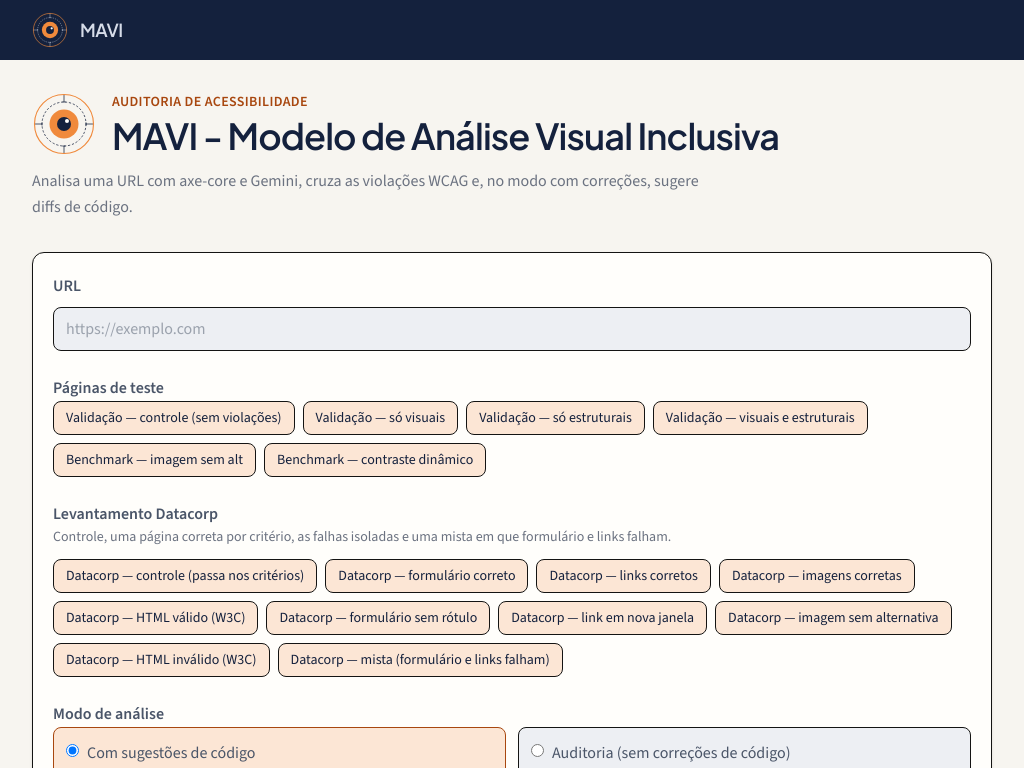
Scenario: App — submissão de URL › mostra mensagem amigável quando a análise falha por timeout
Type "https://example.com" into the field labelled "URL". click: (512, 329)
box: [53,307,971,351]
(page scrolled)
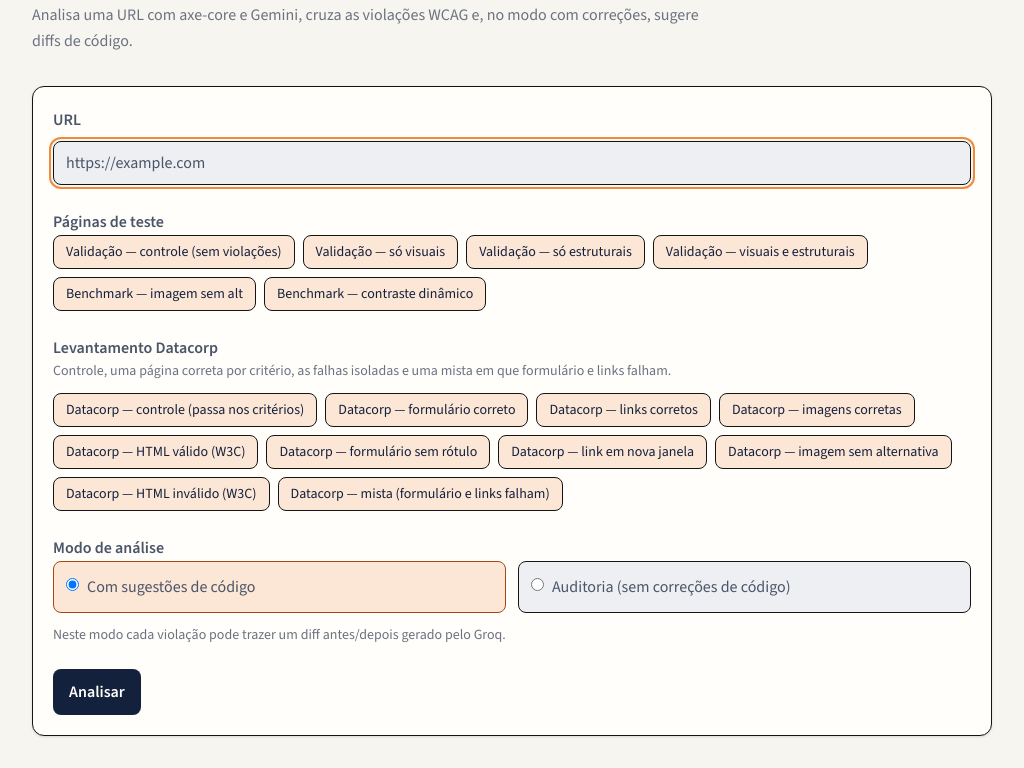
Click the button "Analisar". click: (97, 692)
box: [53,669,141,715]
(page scrolled)
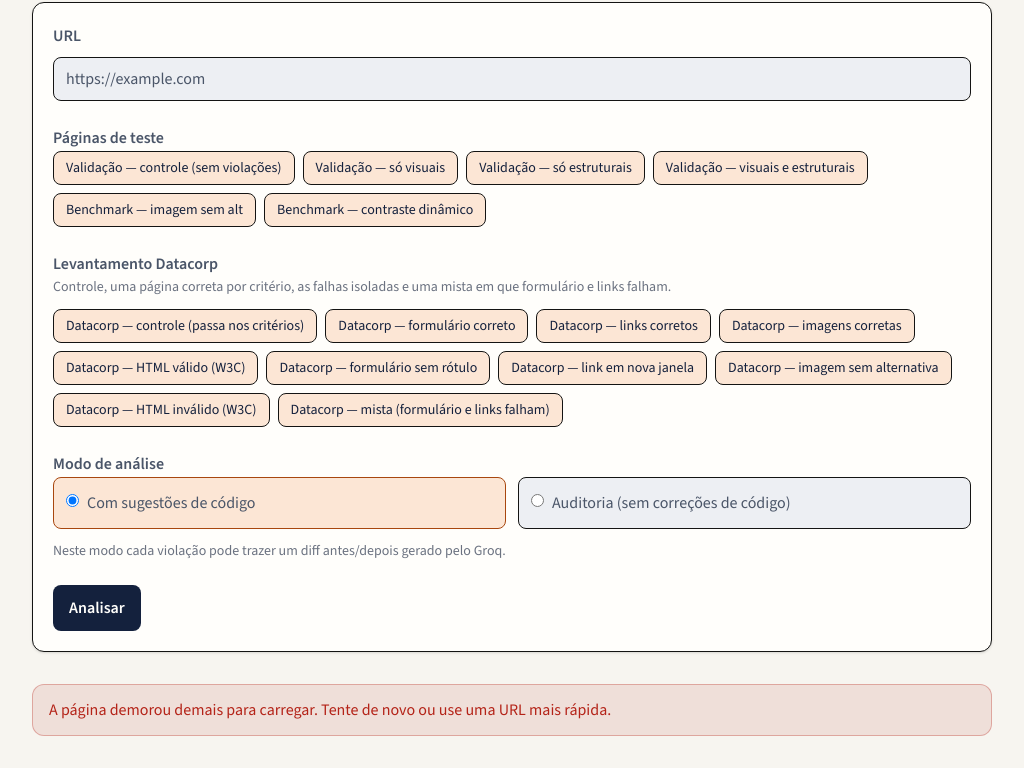
Result: the message reads "A página demorou demais para carregar. Tente de novo ou use uma URL mais rápida." at [49,699,611,720]
